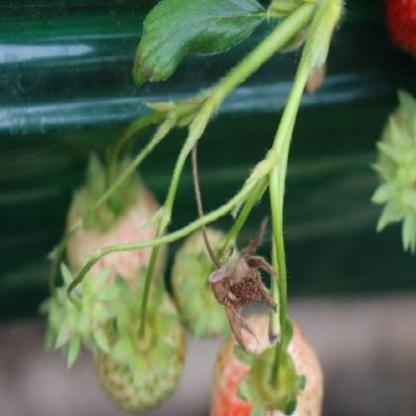Strawberry_Gray_Mold: (208, 216, 278, 354)
